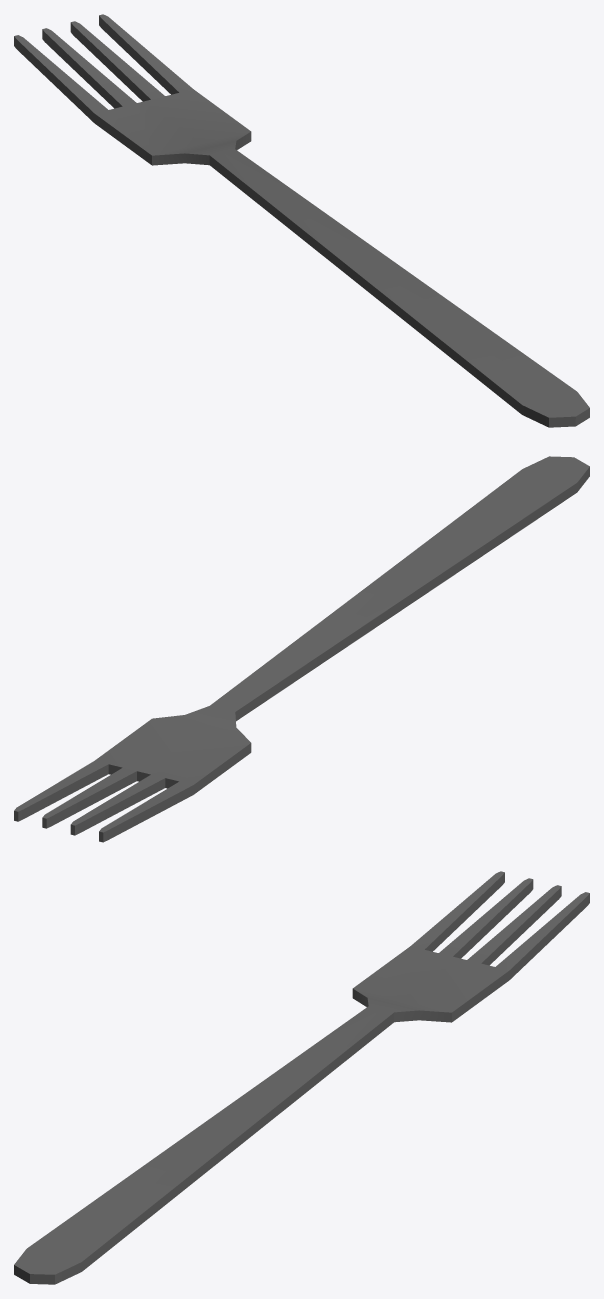
The model's file is Fork.glb.
The picture shows the model from 3 angles, top to bottom: view 1: azimuth 30°, elevation 25°; view 2: azimuth 150°, elevation 25°; view 3: azimuth 330°, elevation 25°; orthographic projection.
Visible parts, largest first — view 1: Fork; view 2: Fork; view 3: Fork.
Part boxes in pixels (x1,y1,x2,y2): Fork: [14, 14, 589, 427]; Fork: [14, 456, 589, 842]; Fork: [14, 871, 589, 1284].
Bounding box in the file's own units: 0.0219 × 0.00498 × 0.1972.
Materials: 1 (1 with a texture image).
